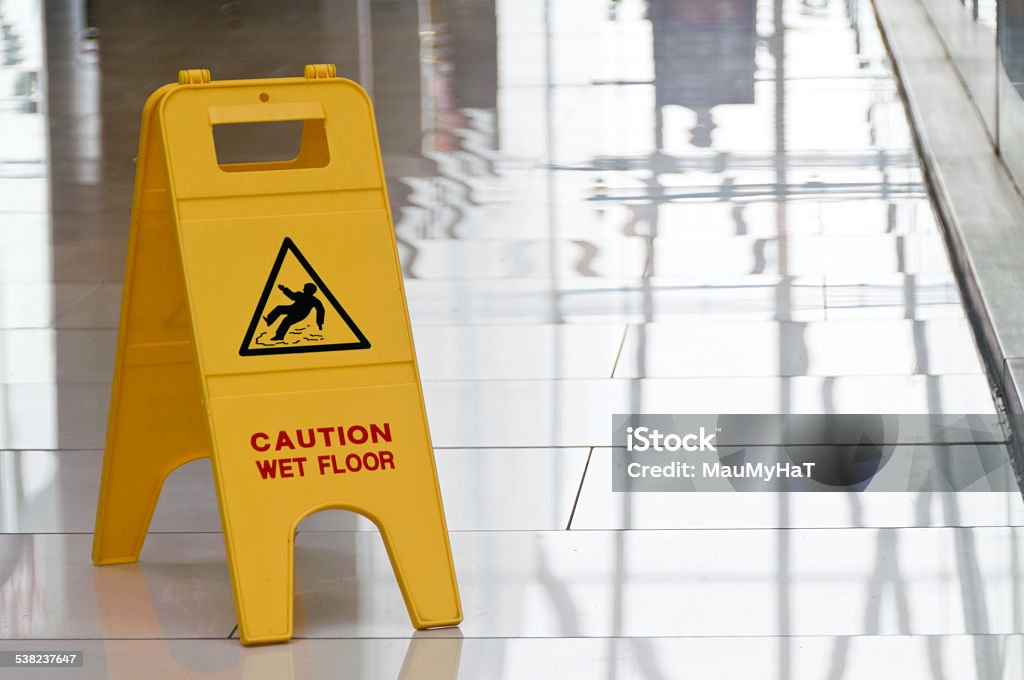wet caution sign: (110, 73, 470, 619)
